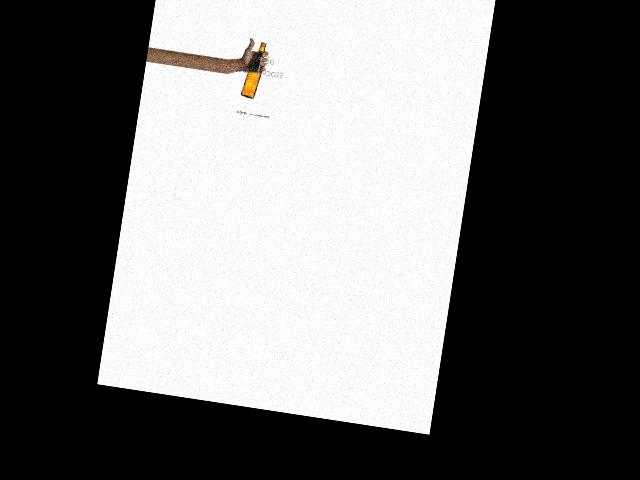beer: (240, 40, 266, 99)
